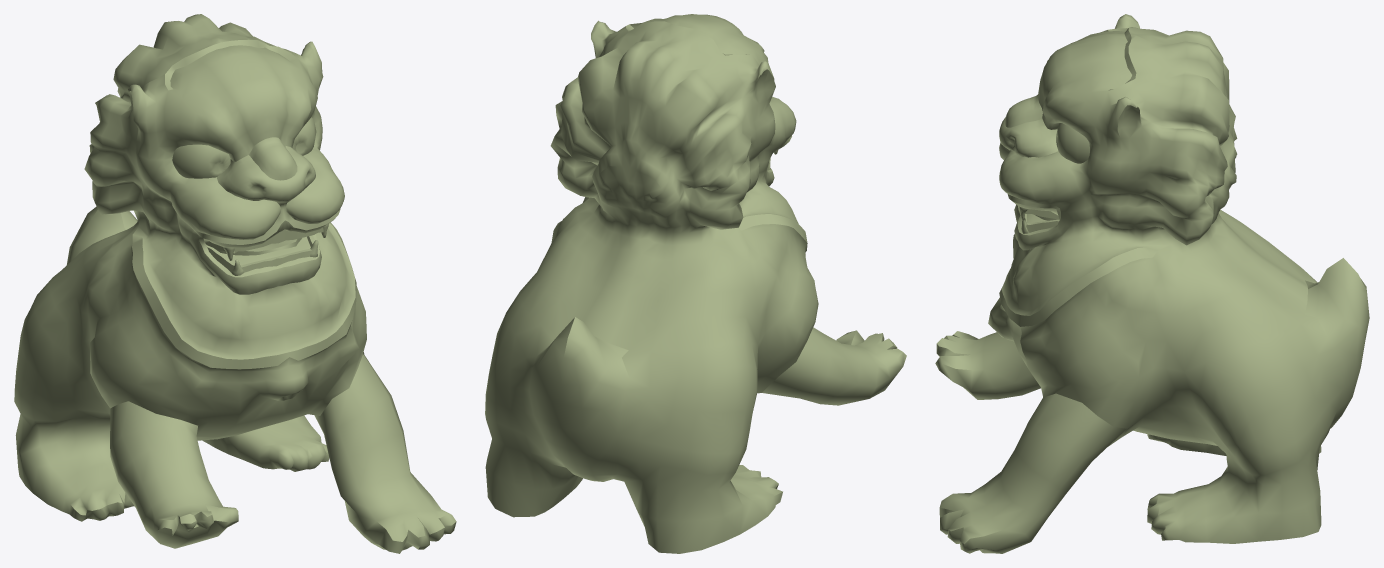
The model's file is Geo_Lion.fbx.
The picture shows the model from 3 angles, left to right: view 1: azimuth 30°, elevation 25°; view 2: azimuth 150°, elevation 25°; view 3: azimuth 270°, elevation 25°; orthographic projection. The views are drawn at different scales.
Visible parts, largest first — view 1: Geo_Lion_LOD0; view 2: Geo_Lion_LOD0; view 3: Geo_Lion_LOD0.
Part boxes in pixels (bbox=[...]): Geo_Lion_LOD0: bbox=[14, 14, 456, 553]; Geo_Lion_LOD0: bbox=[485, 14, 906, 553]; Geo_Lion_LOD0: bbox=[935, 14, 1369, 553].
Size of what is drawn, in the model's own units: 59.03 by 89.59 by 76.75.
